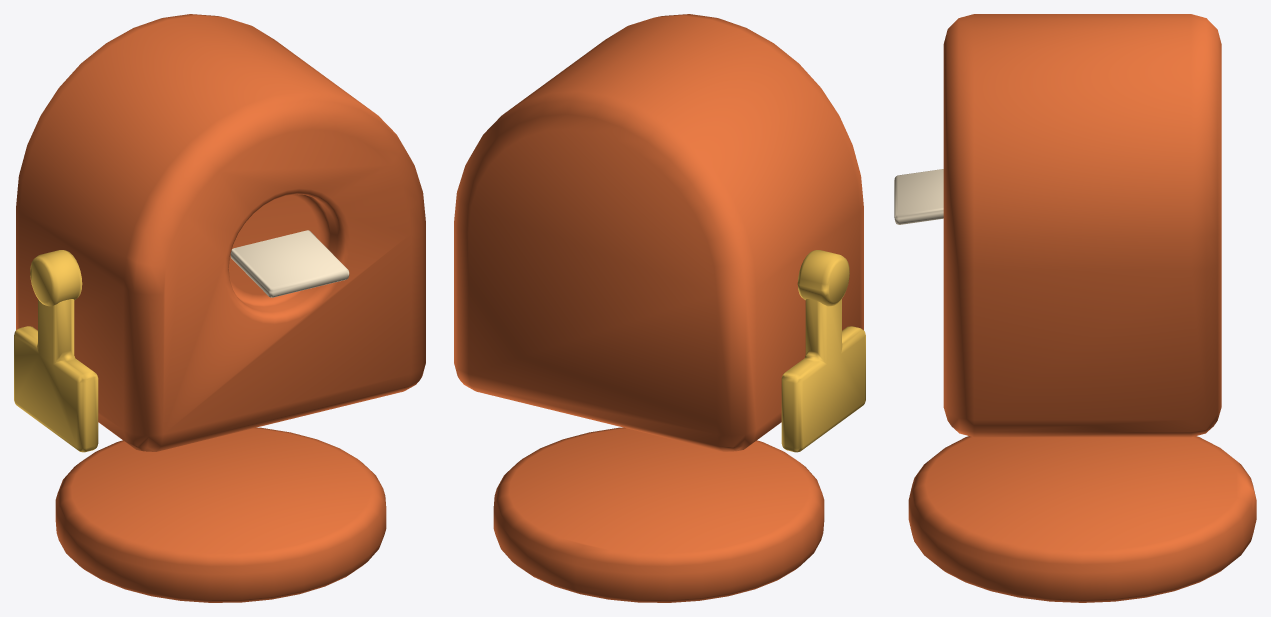
Rendered from mailbox.glb.
The picture shows the model from 3 angles, left to right: view 1: azimuth 30°, elevation 25°; view 2: azimuth 150°, elevation 25°; view 3: azimuth 270°, elevation 25°; orthographic projection. The views are drawn at different scales.
Parts seen in each view (by area): view 1: Mailbox_Body, Mailbox_Flag, Mailbox_Letter; view 2: Mailbox_Body, Mailbox_Flag; view 3: Mailbox_Body, Mailbox_Letter.
Part boxes in pixels (box(x1,y1,x2,y2)): Mailbox_Body: box(16, 14, 425, 602); Mailbox_Flag: box(14, 250, 98, 452); Mailbox_Letter: box(230, 230, 349, 297); Mailbox_Body: box(454, 14, 863, 602); Mailbox_Flag: box(781, 250, 865, 452); Mailbox_Body: box(908, 14, 1256, 602); Mailbox_Letter: box(894, 169, 943, 224).
Size of the model in its own units: 0.2865 by 0.4 by 0.2603.
